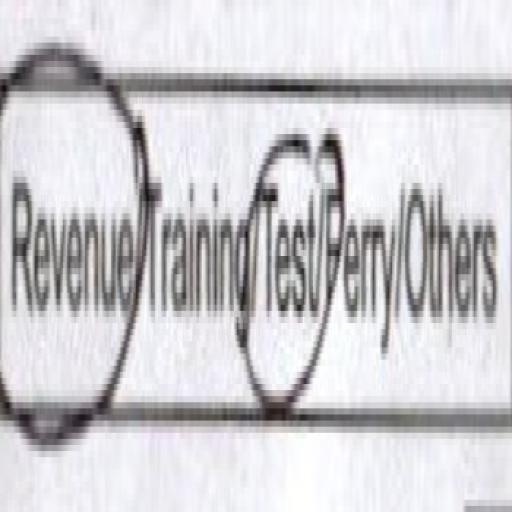check: (0, 11, 142, 463), (247, 27, 325, 468)
